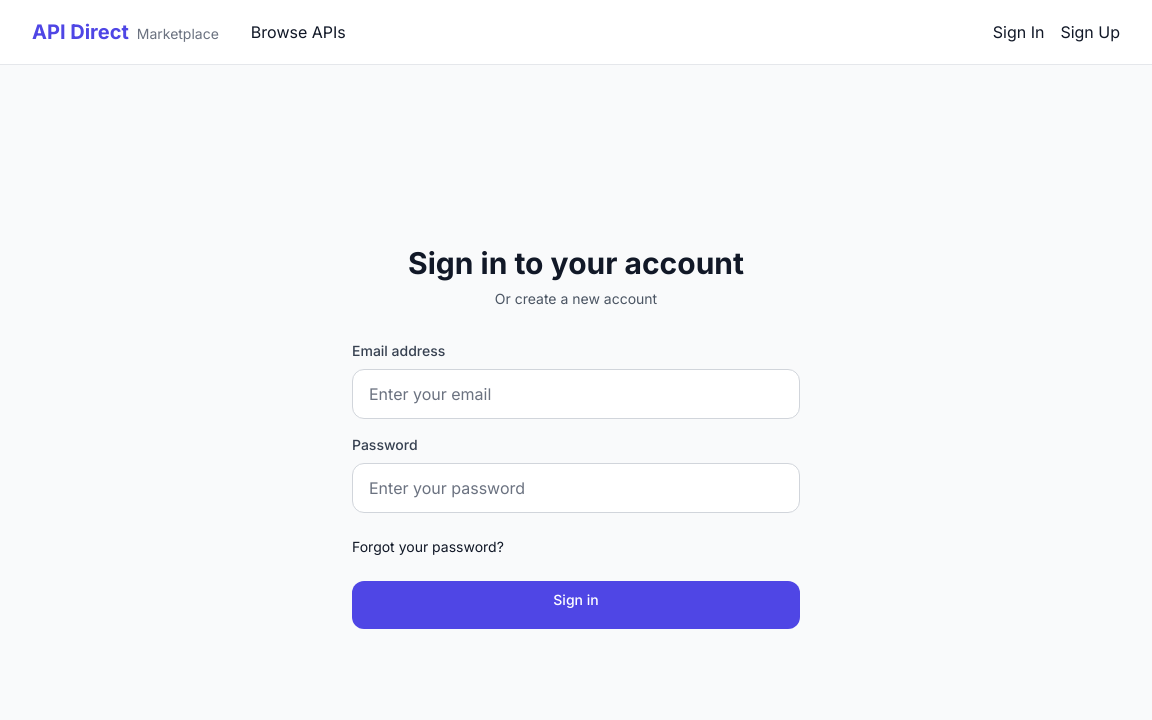
Test: Login Page › Form Validation › shows error for empty fields
Click the button "Sign in": click(576, 605) [352,581,800,629]
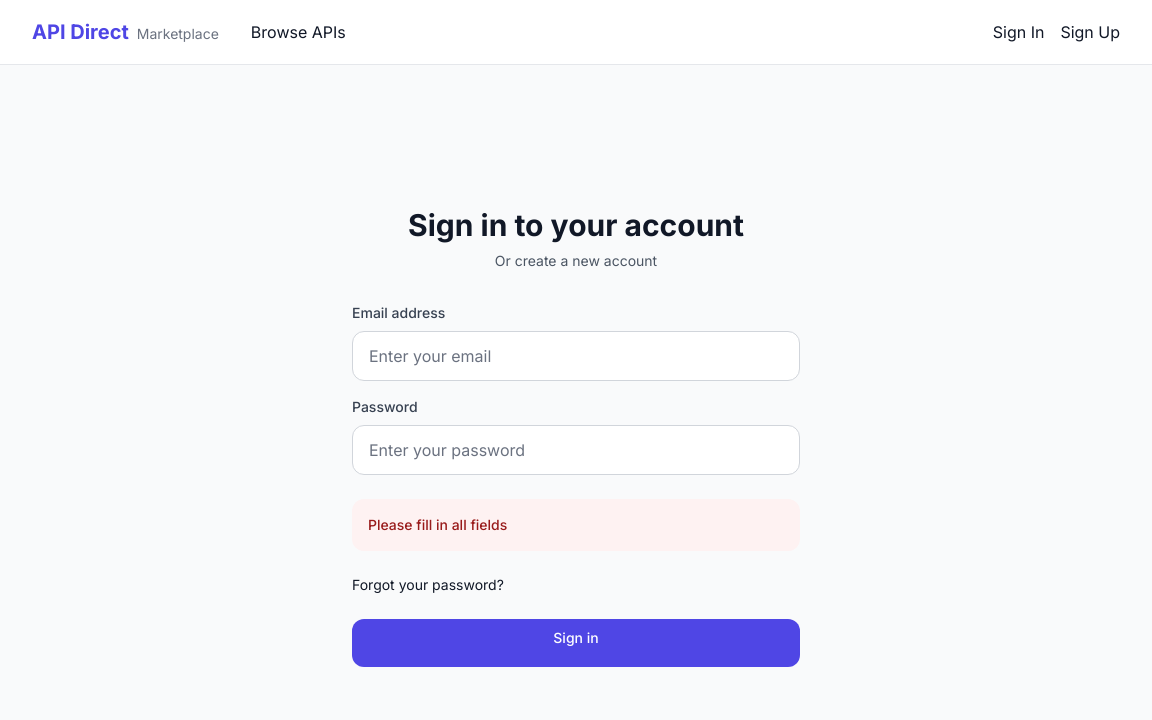
Now the heading "Please fill in all fields" is shown, box [368,516,507,533]
